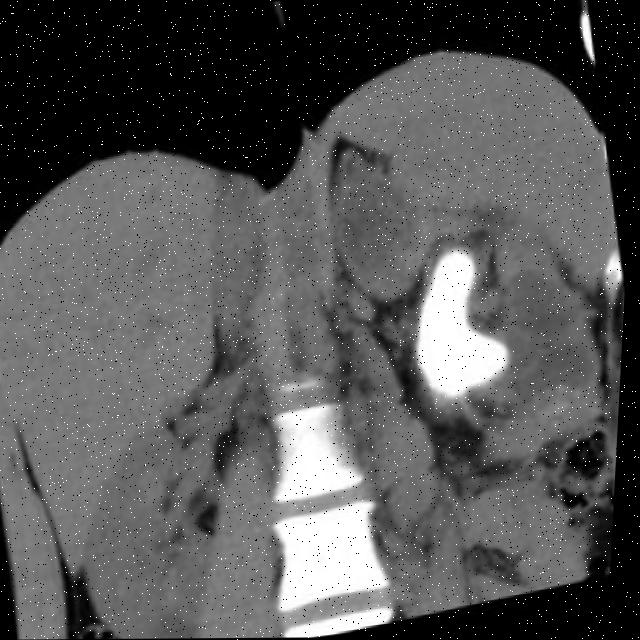Tas_Var: (387, 223, 540, 412)
